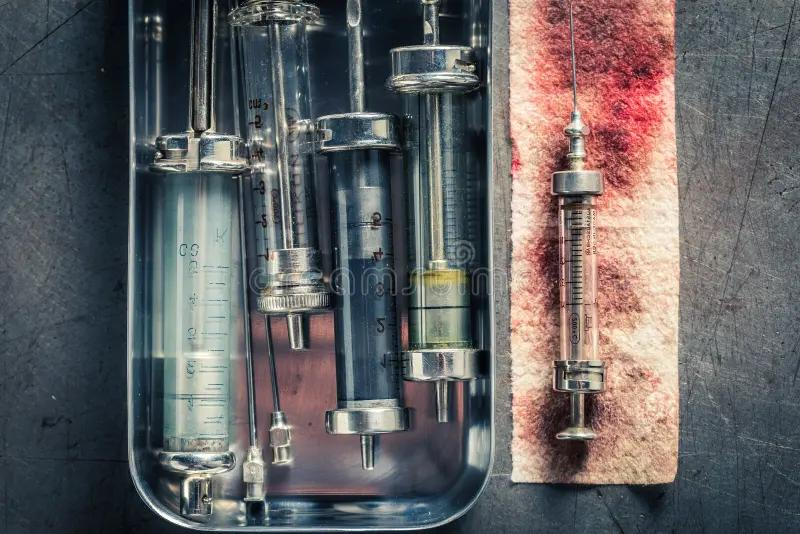Syringe: (151, 0, 245, 514), (317, 0, 408, 469), (387, 0, 479, 421), (229, 0, 329, 349), (552, 2, 604, 439)
